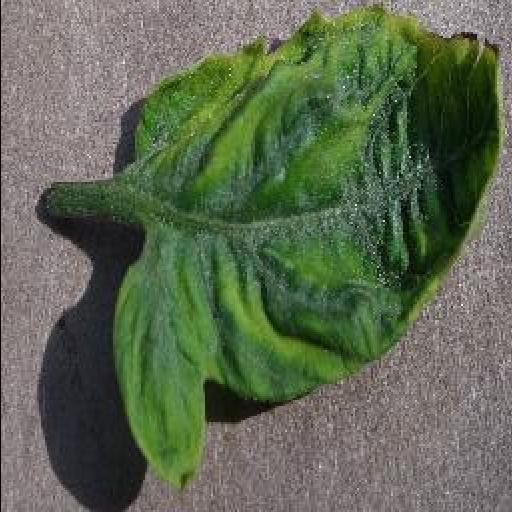disease_tomato: (110, 4, 504, 492)
